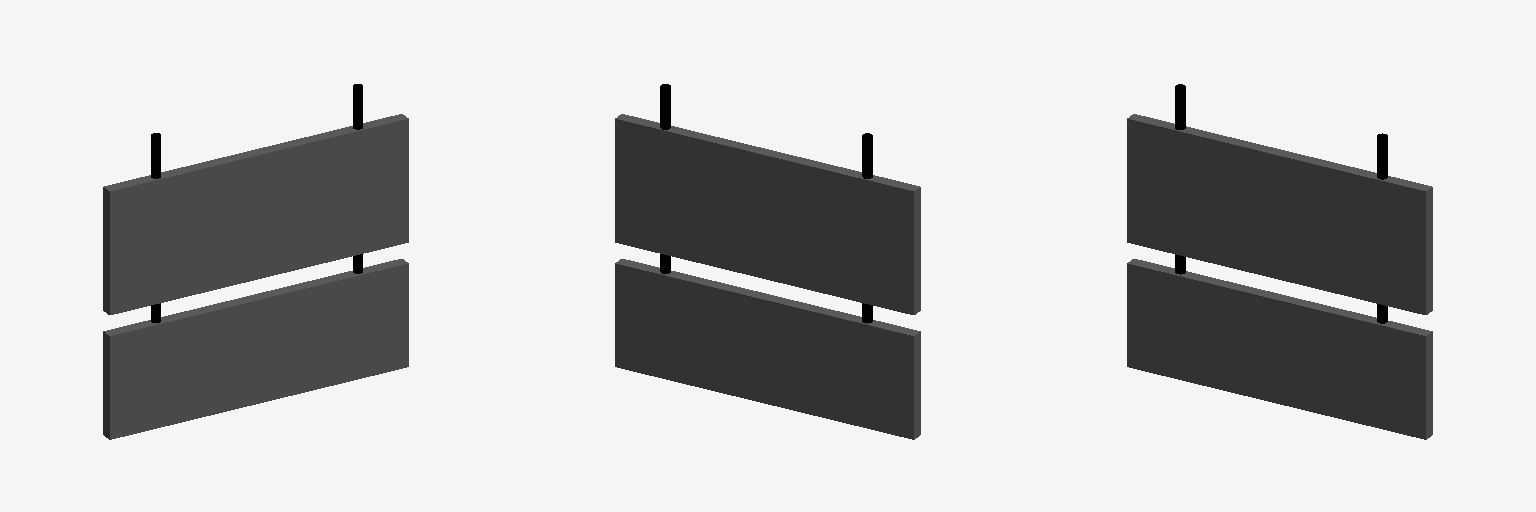
Rendered from Sign.obj.
3 renders of one model, left to right at view 1: azimuth 30°, elevation 25°; view 2: azimuth 150°, elevation 25°; view 3: azimuth 330°, elevation 25°, orthographic.
Parts seen in each view (by area): view 1: Box037; view 2: Box037; view 3: Box037.
Part boxes in pixels (left/top/right/bottom): Box037: left=103, top=84, right=408, bottom=439; Box037: left=615, top=84, right=920, bottom=439; Box037: left=1127, top=84, right=1432, bottom=439.
Bounding box in the file's own units: 153 × 142 × 5.99.